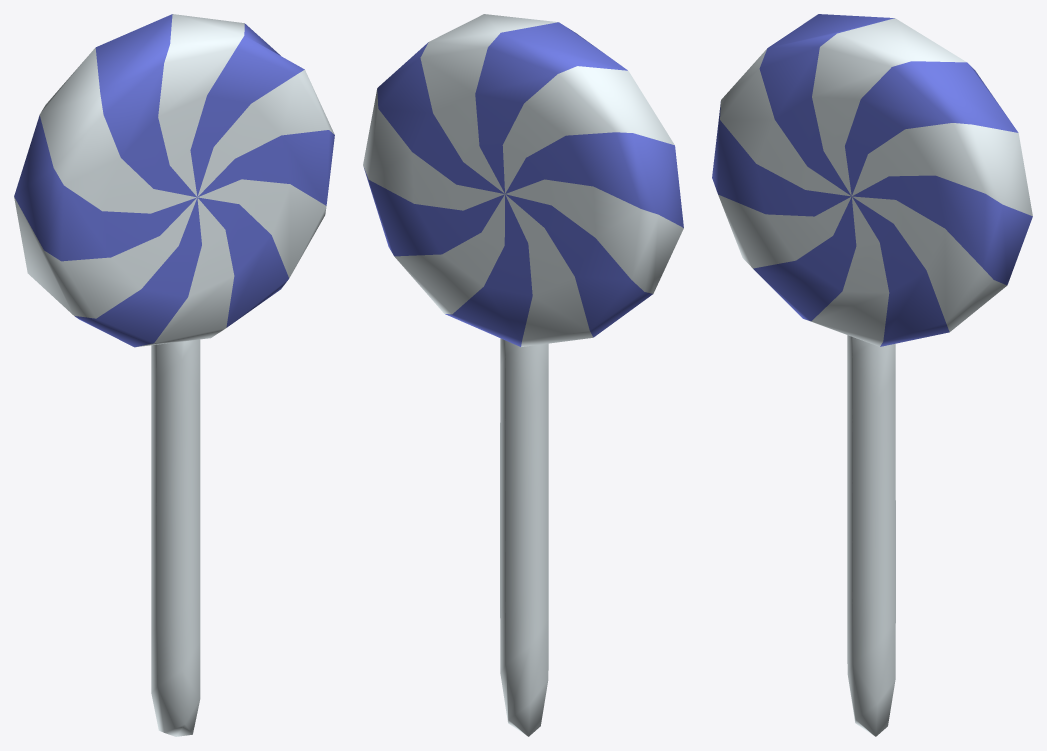
File: candy_assets39.fbx
The picture shows the model from 3 angles, left to right: view 1: azimuth 30°, elevation 25°; view 2: azimuth 150°, elevation 25°; view 3: azimuth 330°, elevation 25°; orthographic projection.
Visible parts, largest first — view 1: candy_assets39; view 2: candy_assets39; view 3: candy_assets39.
Boxes of the visible parts, x1=… form: candy_assets39: x1=14, y1=14, x2=334, y2=736; candy_assets39: x1=363, y1=14, x2=683, y2=736; candy_assets39: x1=712, y1=14, x2=1032, y2=736.
Bounding box in the file's own units: 503 × 1153 × 124.
1 material, 1 textured.
